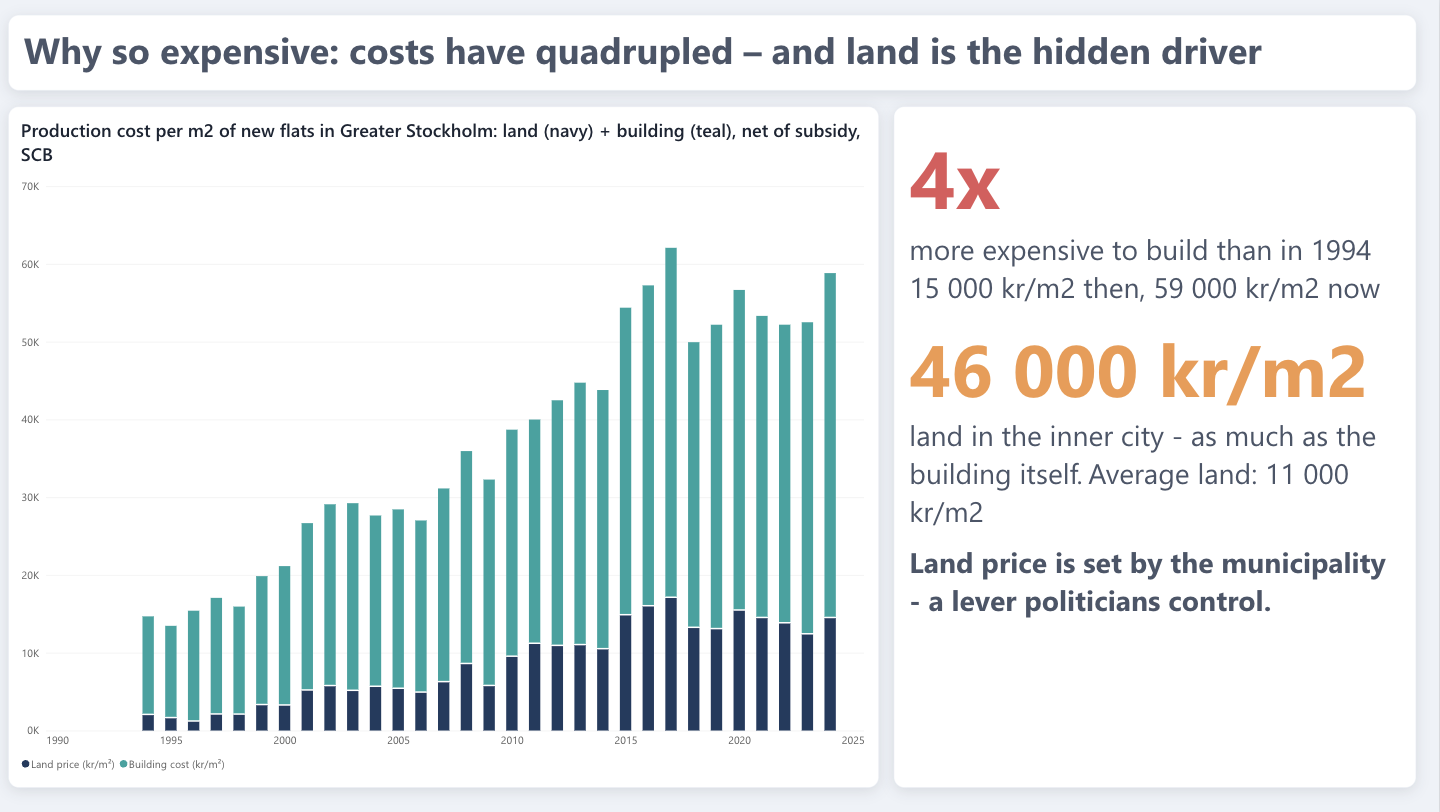

The page's visual inventory and layout, read from the dashboard file:
{"tool":"powerbi","page":{"name":"2. Why so expensive?","canvas":[1920,1080],"ordinal":2},"visuals":[{"type":"columnChart","title":"Production cost per m2 of new flats in Greater Stockholm: land (navy) + building (teal), net of subsidy, SCB","fields":{"Category":["cost_split.year"],"Y":["Sum(cost_split.land)","Sum(cost_split.building)"]},"box":[30,140,1150,900],"z":0},{"type":"textbox","box":[30,20,1860,100],"z":1000},{"type":"textbox","box":[1200,140,690,900],"z":2000}]}

Visuals, with their boxes in screenshot pixels (x1, y1, x2, y2), scaled from the page's 1920x1080 canvas onto the 1440x812 screenshot:
"Production cost per m2 of new flats in Greater Stockholm: land (navy) + building (teal), net of subsidy, SCB" columnChart: bbox=(22, 105, 885, 782)
textbox: bbox=(22, 15, 1418, 90)
textbox: bbox=(900, 105, 1418, 782)
